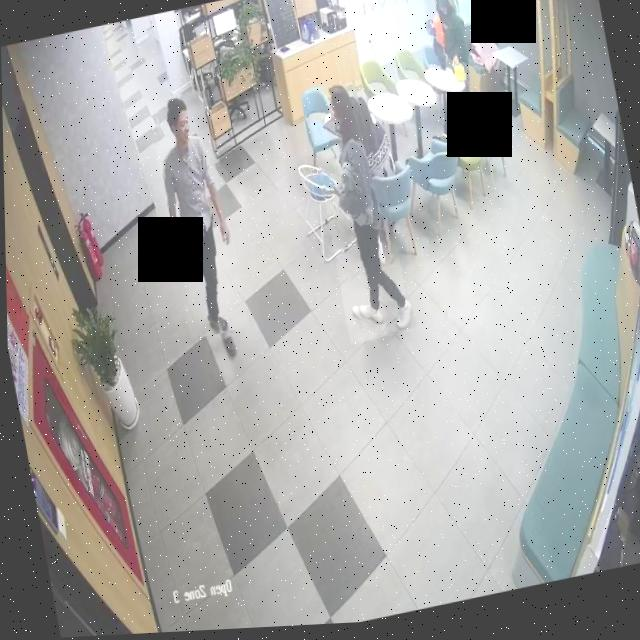person: (304, 80, 412, 350), (147, 89, 248, 343), (418, 0, 484, 130)
